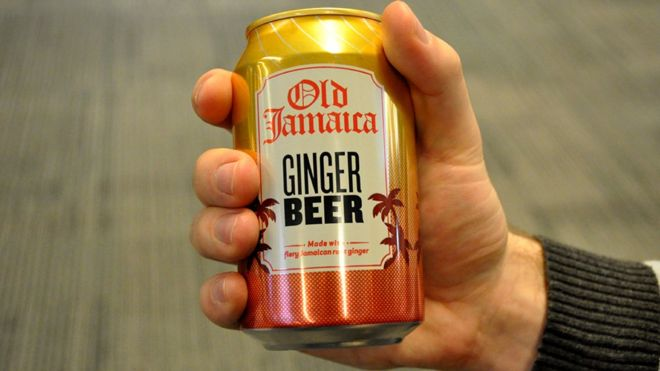can: (226, 6, 430, 354)
